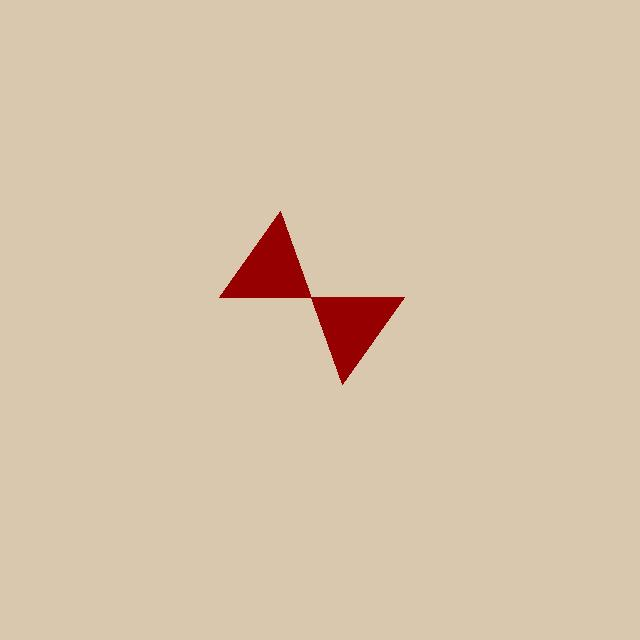laceration: (219, 211, 404, 384)
